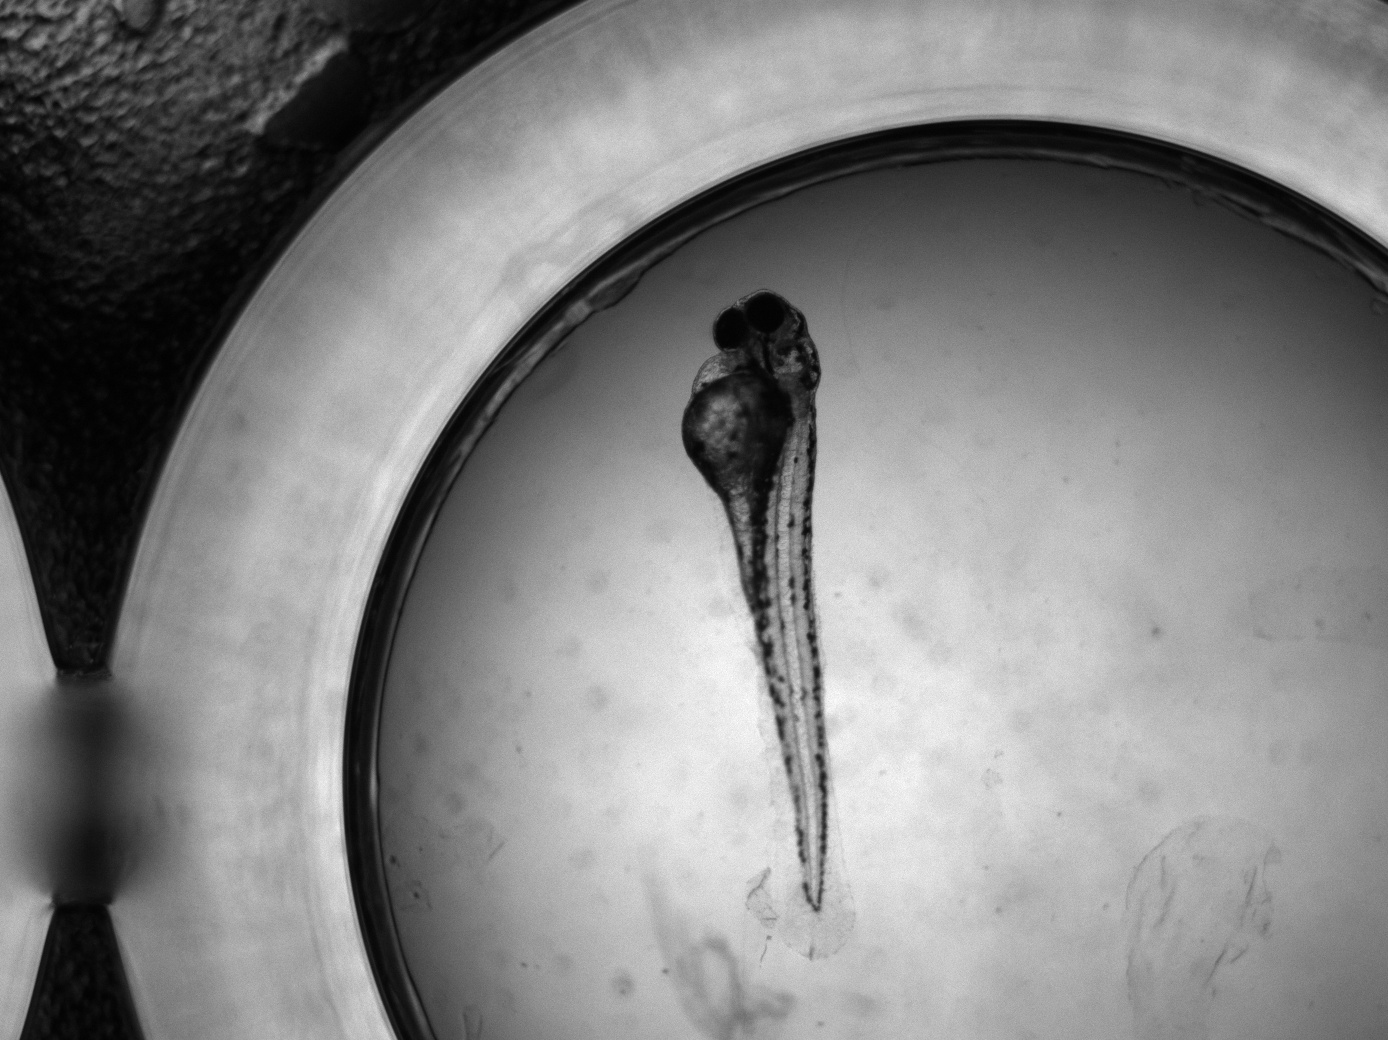embryo: (681, 289, 831, 912)
eye: (745, 292, 785, 333), (712, 308, 749, 350)
yolksac: (681, 353, 793, 499)
